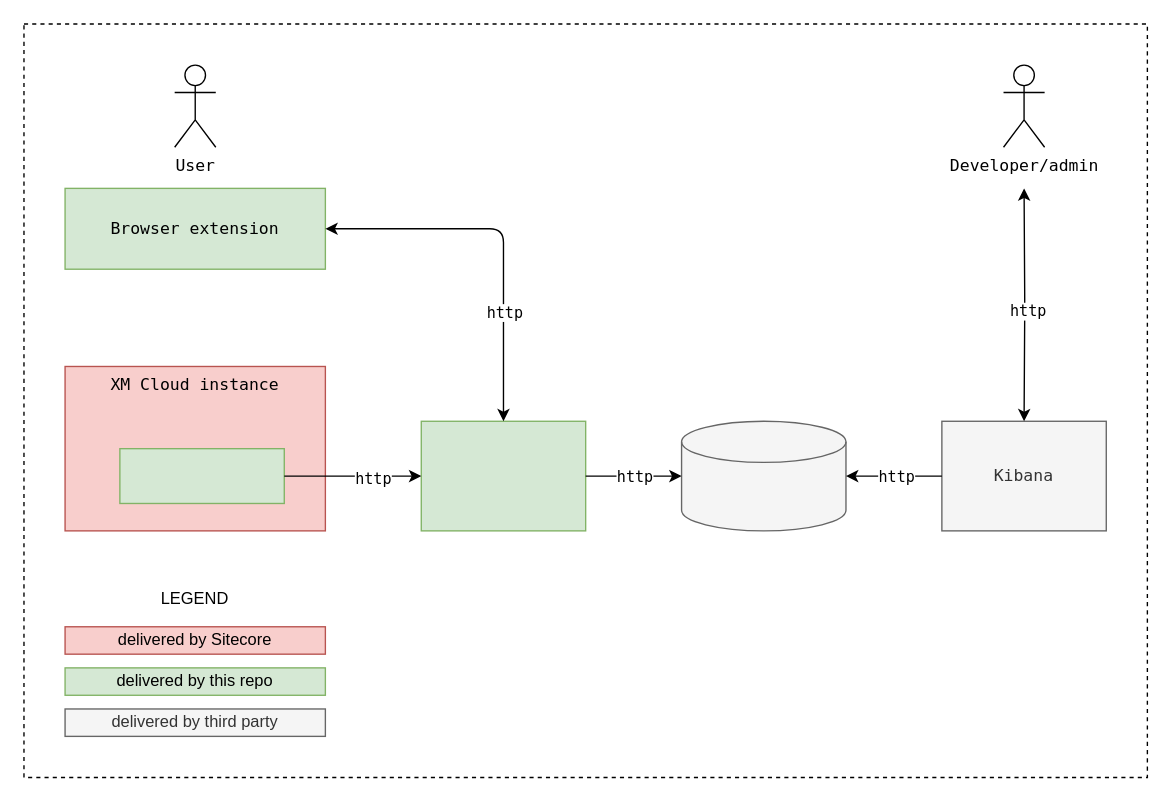
Some shapes in this 1171 by 801 pixel diagram are drawn without their labels. Each missing label, with the centre of its shape:
"Elasticsearch" belongs at point 763,475.
"web app (glitterbucket)" belongs at point 503,475.
"webhook config" belongs at point 201,475.
